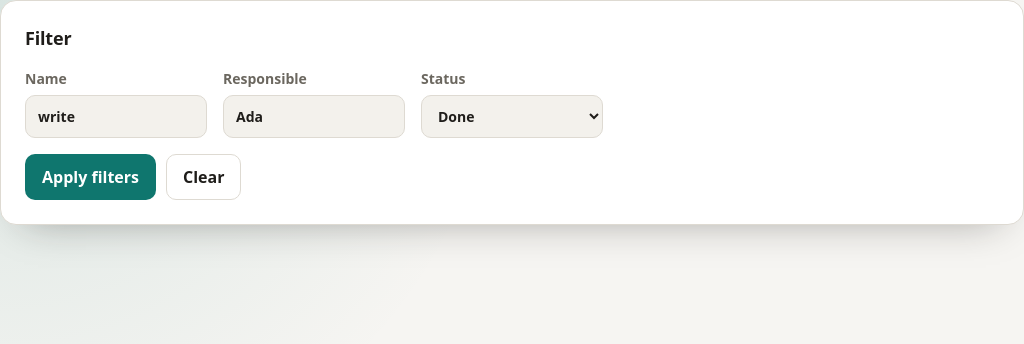
Test case: TodoFilters › clears the draft and notifies the parent
Click the button "Clear" at (204, 177), box left=166, top=154, right=242, bottom=200
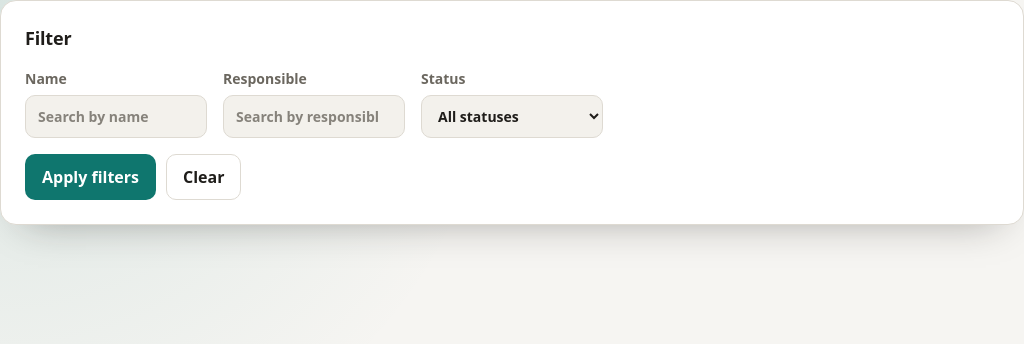
Result: the search field labelled "Name" is empty at left=25, top=95, right=207, bottom=138
Result: the search field labelled "Responsible" is empty at left=223, top=95, right=405, bottom=138
Result: the dropdown labelled "Status" shows "All statuses" at left=421, top=95, right=603, bottom=138
